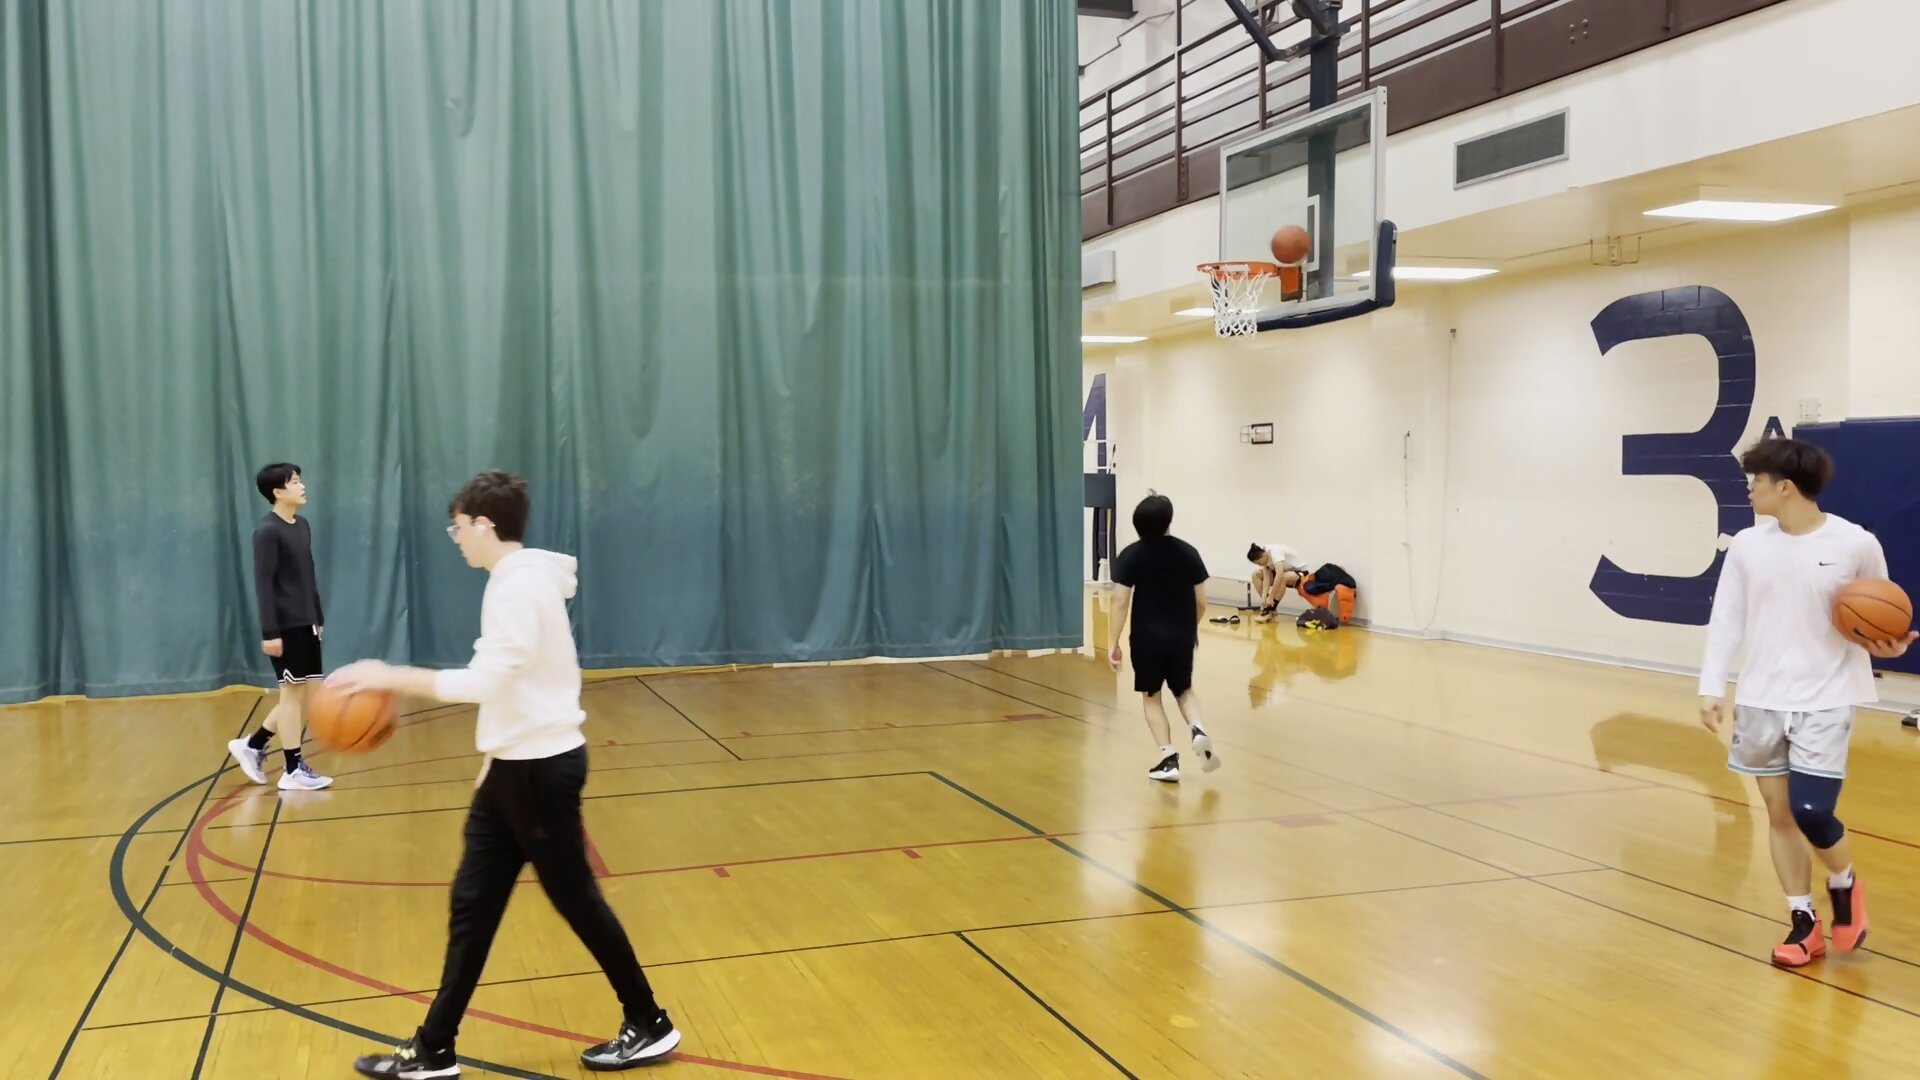ball: (307, 673, 400, 759), (1830, 574, 1911, 650), (1268, 226, 1312, 262)
net: (1207, 314, 1263, 344)
player: (377, 469, 676, 1080), (1693, 438, 1892, 976), (224, 455, 333, 792), (1107, 493, 1224, 791), (1239, 539, 1314, 630)
rim: (1191, 255, 1282, 281)
